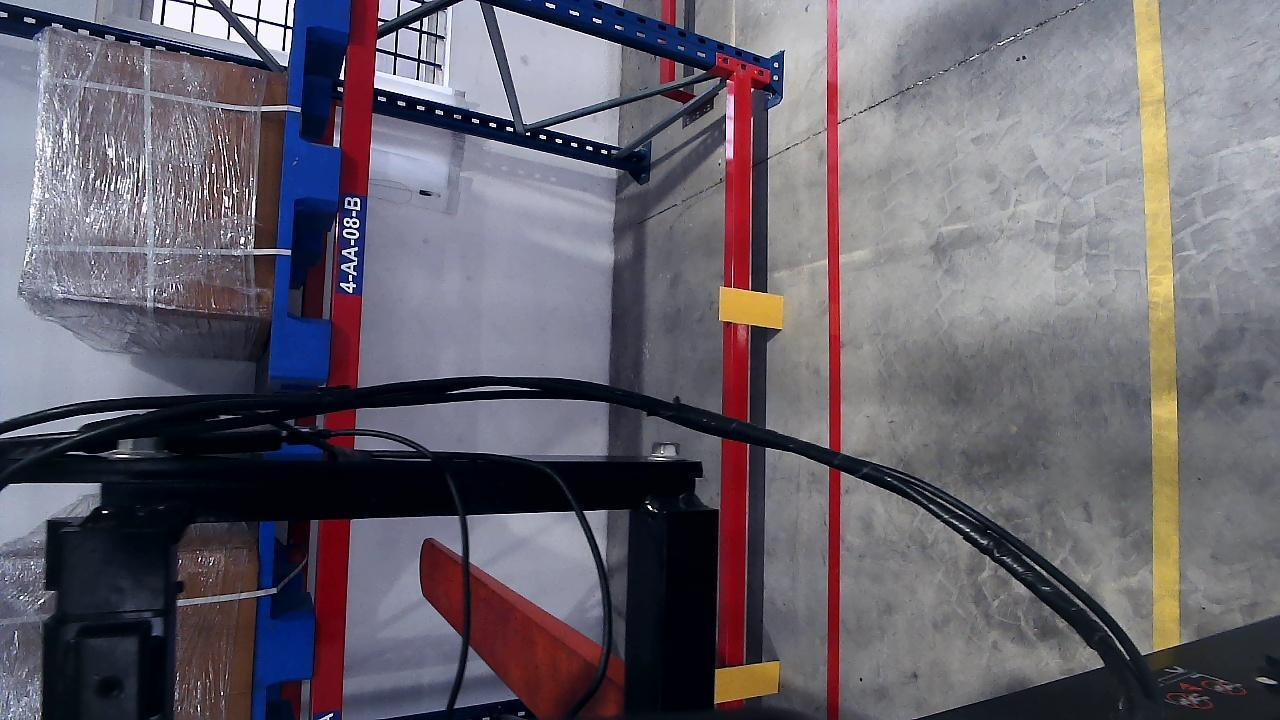red_line: (822, 4, 844, 720)
yellow_line: (1125, 0, 1181, 653)
